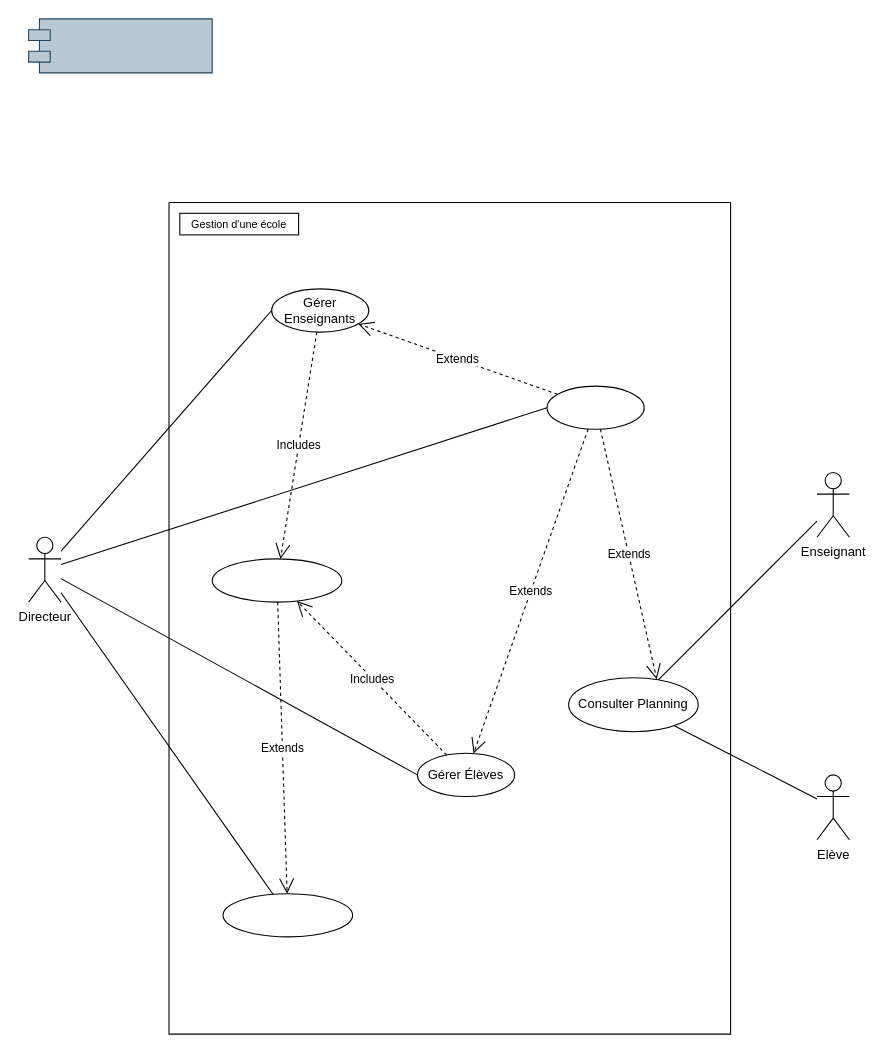
Image size: 885x1053. Some labels were removed from this diagram. Here are the shapes that lost their labels. From the top down, the centre of each, then its label:
At point (120, 45): "CAS D'UTILISATION".
At point (595, 407): "Gérer Cours".
At point (276, 580): "Gérer Adresses".
At point (287, 915): "Consulter Adresses".
